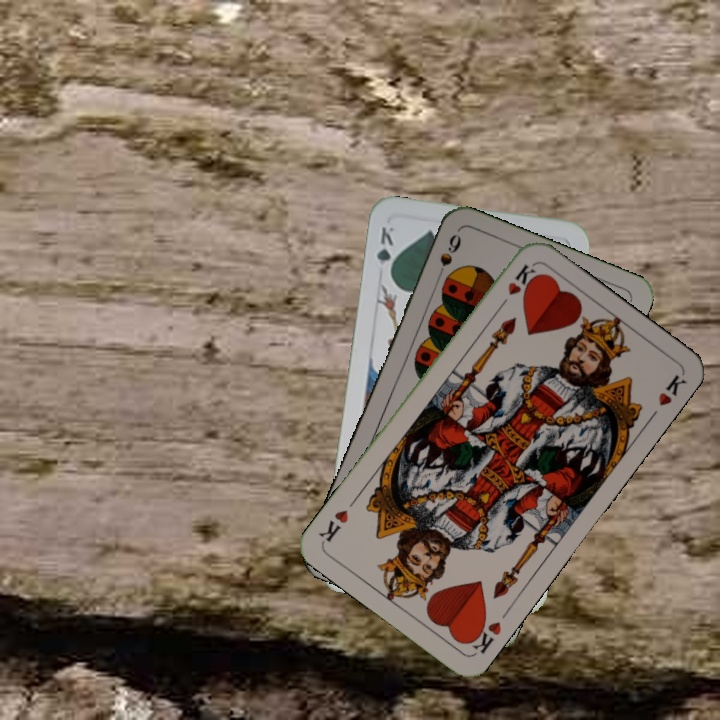GK: (372, 222, 398, 280)
HK: (494, 260, 539, 312), (462, 613, 504, 657)
S9: (432, 230, 464, 284)
